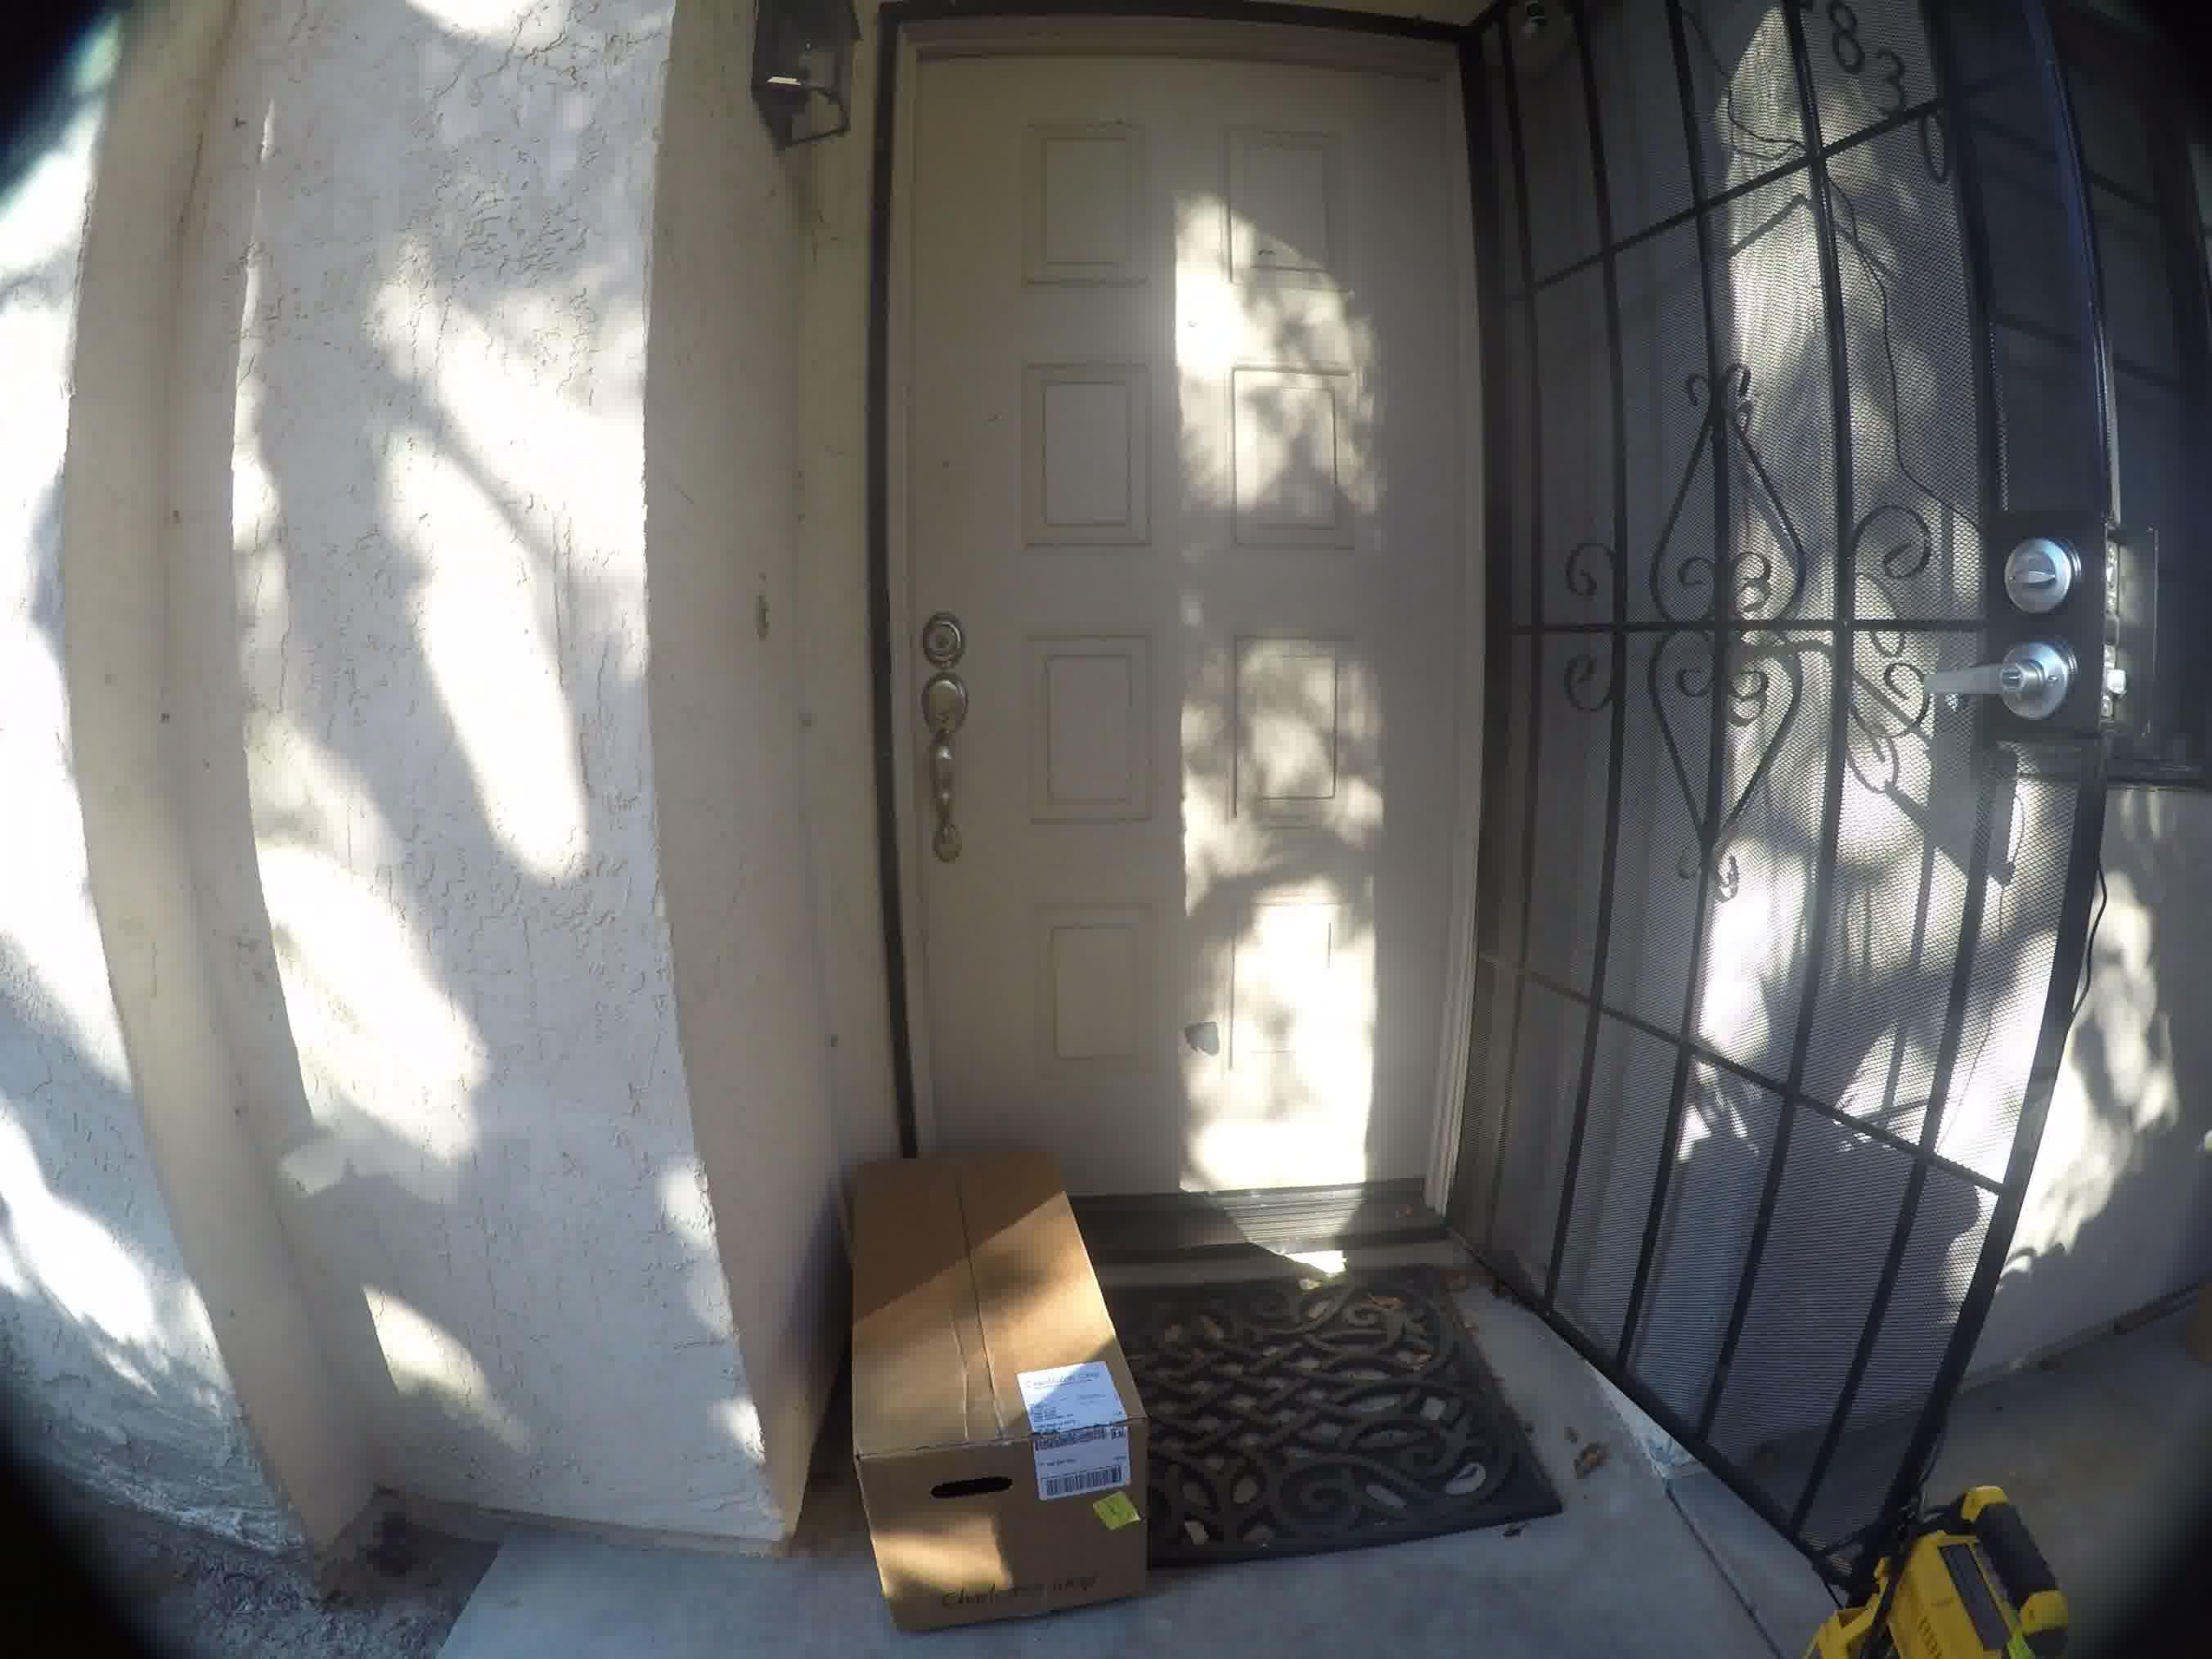box: (834, 1117, 1158, 1636)
